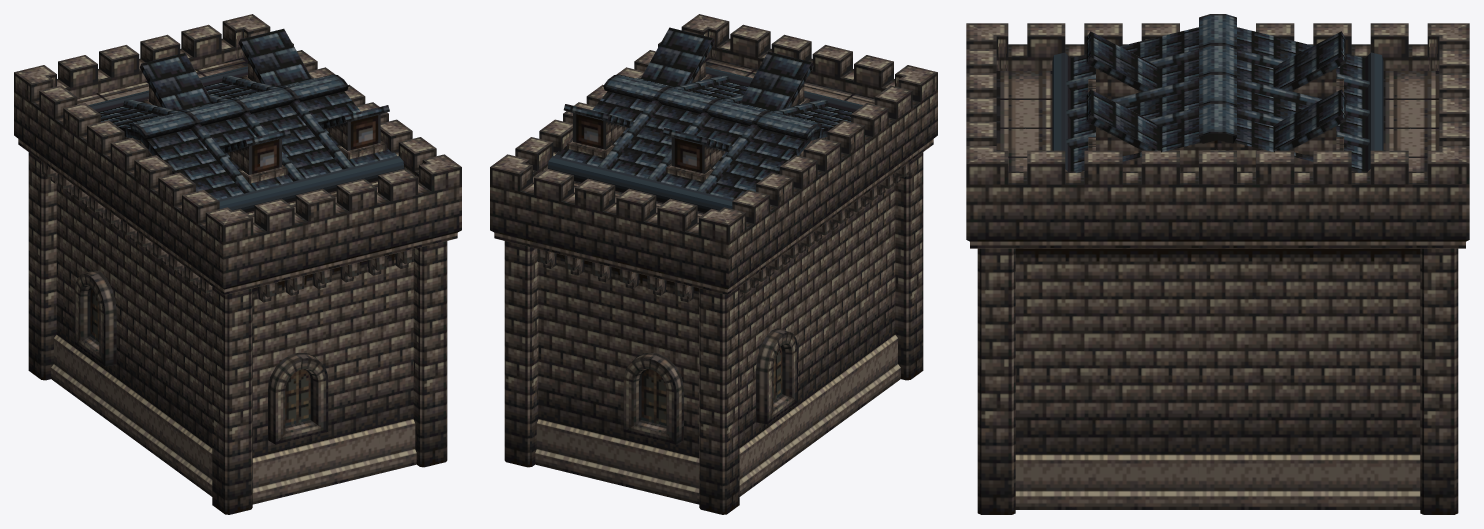
Rendered from EnvBdgMD_Sea_B_Outdoor_Station_A.FBX.
3 views of the same model, side by side, from view 1: azimuth 30°, elevation 25°; view 2: azimuth 150°, elevation 25°; view 3: azimuth 270°, elevation 25° (orthographic). The views are drawn at different scales.
Visible parts, largest first — view 1: EnvBdgMD_Sea_B_Outdoor_Station_A; view 2: EnvBdgMD_Sea_B_Outdoor_Station_A; view 3: EnvBdgMD_Sea_B_Outdoor_Station_A.
Boxes of the visible parts, left/top/right/bottom form: EnvBdgMD_Sea_B_Outdoor_Station_A: left=14, top=14, right=461, bottom=514; EnvBdgMD_Sea_B_Outdoor_Station_A: left=490, top=14, right=937, bottom=514; EnvBdgMD_Sea_B_Outdoor_Station_A: left=966, top=14, right=1469, bottom=514.
Size of the model in its own units: 435 by 567 by 660.
Materials: 1 (1 with a texture image).
